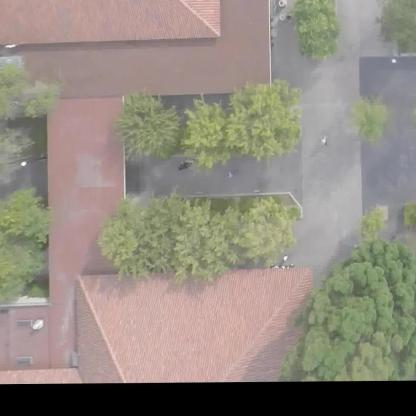Bicyclist: (314, 125, 330, 156)
